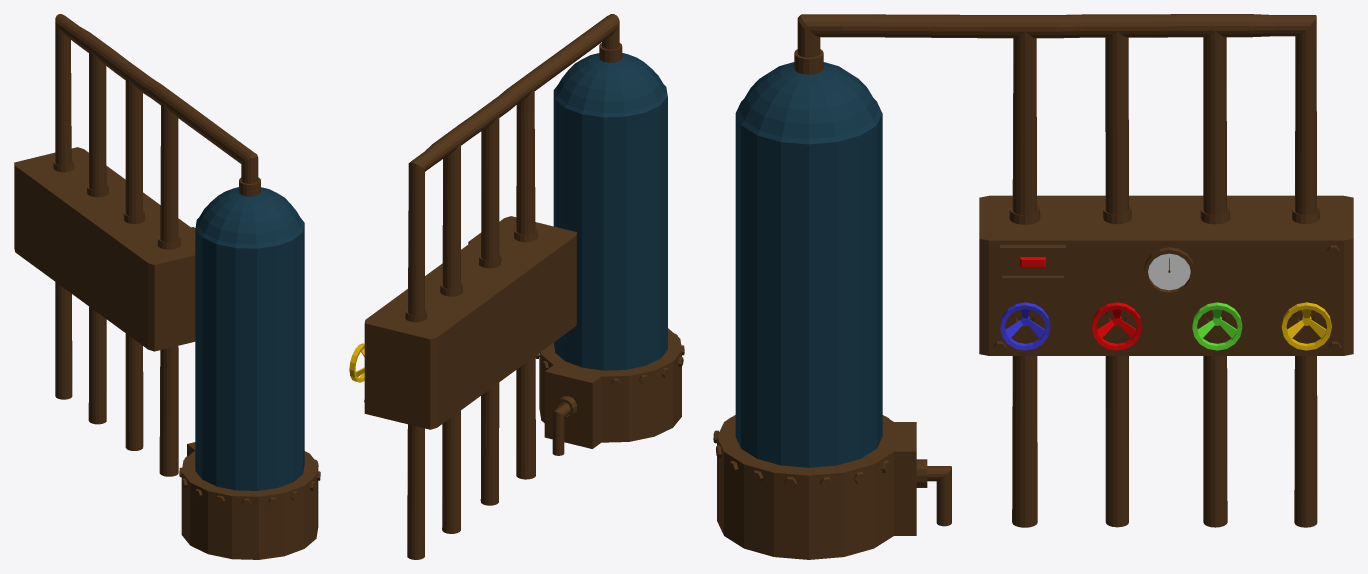
File: SteamEngine.fbx
3 renders of one model, left to right at view 1: azimuth 30°, elevation 25°; view 2: azimuth 150°, elevation 25°; view 3: azimuth 270°, elevation 25°, orthographic. The views are drawn at different scales.
Visible parts, largest first — view 1: Engine, Tank#; view 2: Engine, Tank#; view 3: Engine, Tank#, Valve Blue, Valve Green, Valve Yellow, Valve Red, Face.
Boxes of the visible parts, x1,y1,x2,y2 form: Engine: (14, 14, 320, 559); Tank#: (195, 187, 304, 490); Engine: (364, 14, 684, 559); Tank#: (553, 53, 667, 370); Engine: (713, 14, 1353, 559); Tank#: (735, 62, 882, 467); Valve Blue: (1000, 302, 1050, 350); Valve Green: (1192, 302, 1242, 350); Valve Yellow: (1281, 302, 1331, 350); Valve Red: (1092, 302, 1141, 350); Face: (1148, 253, 1190, 290).
Bounding box in the file's own units: 1073 × 3184 × 3635.
